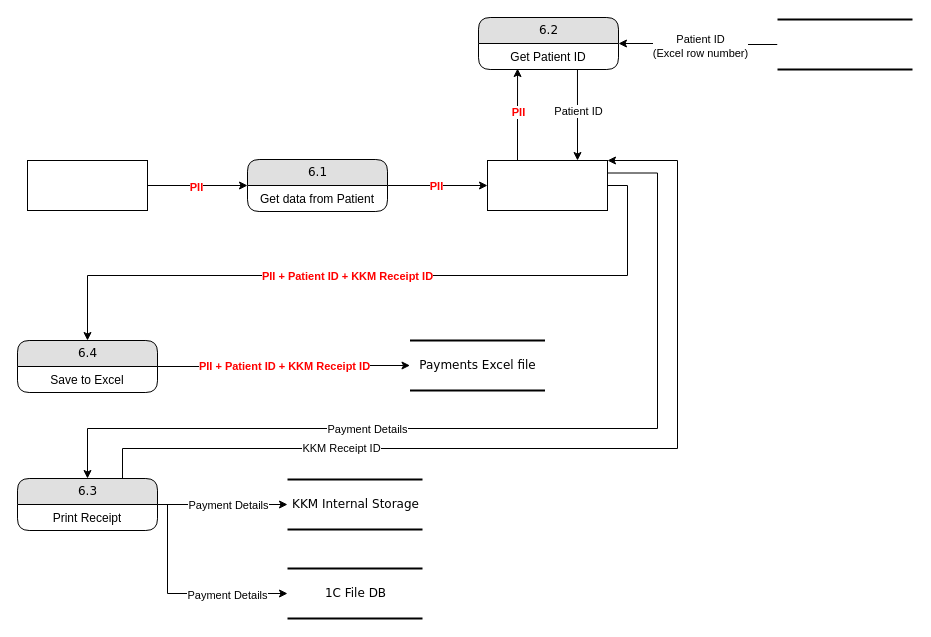
Image size: 931x637. Some labels were removed from this diagram. The centre of each missing label's shape, as x and y in pixels:
Cashier: the point at 547,185
Patient: the point at 87,185
Patients Excel file: the point at 844,44
